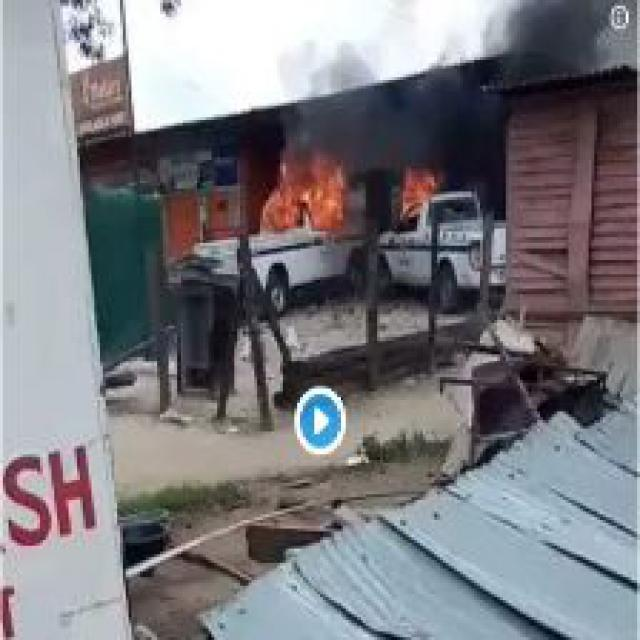fire: (254, 131, 443, 240)
